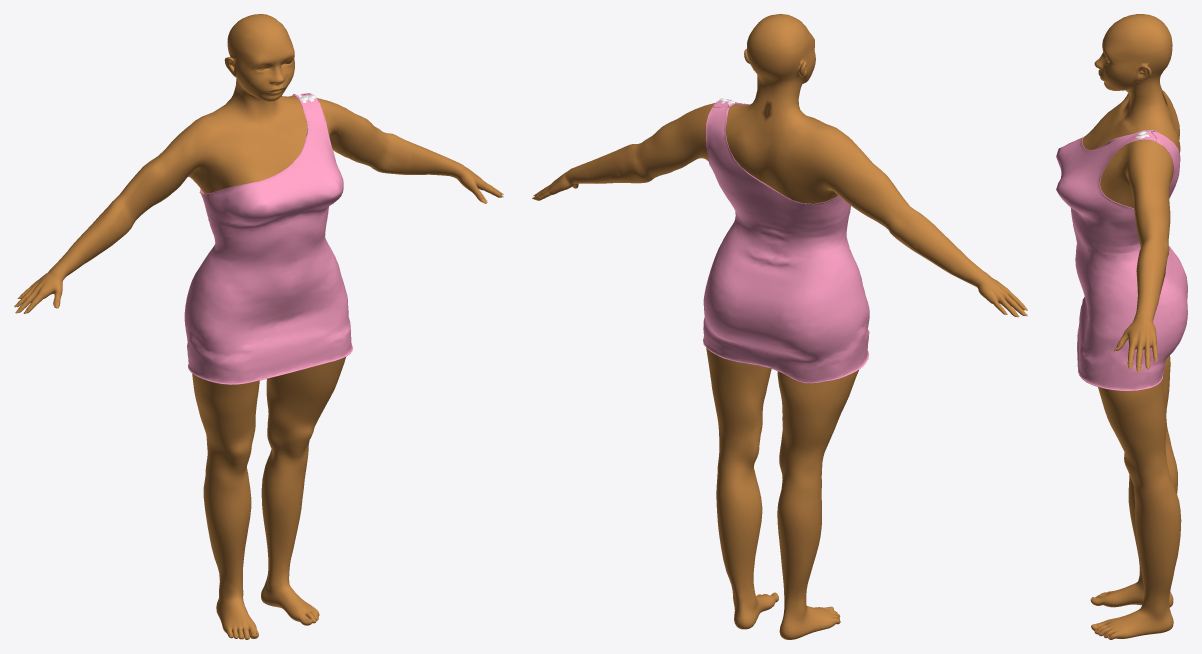
File: dress1.glb
3 renders of one model, left to right at view 1: azimuth 30°, elevation 25°; view 2: azimuth 150°, elevation 25°; view 3: azimuth 270°, elevation 25°, orthographic.
Parts seen in each view (by area): view 1: Body, WhiteDress; view 2: Body, WhiteDress; view 3: Body, WhiteDress.
Part boxes in pixels (box(x1,y1,x2,y2)): Body: box(16, 14, 503, 639); WhiteDress: box(184, 93, 352, 384); Body: box(533, 14, 1024, 639); WhiteDress: box(703, 98, 869, 383); Body: box(1082, 14, 1181, 639); WhiteDress: box(1056, 130, 1187, 391).
Bounding box in the file's own units: 1.58 × 1.85 × 0.3678.
